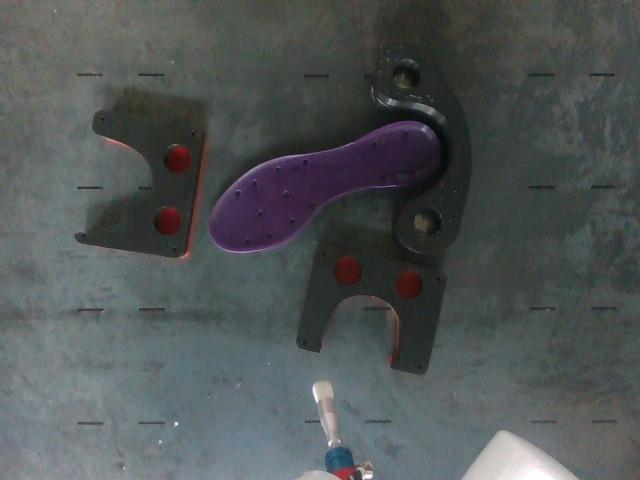shoes: (210, 123, 438, 251)
